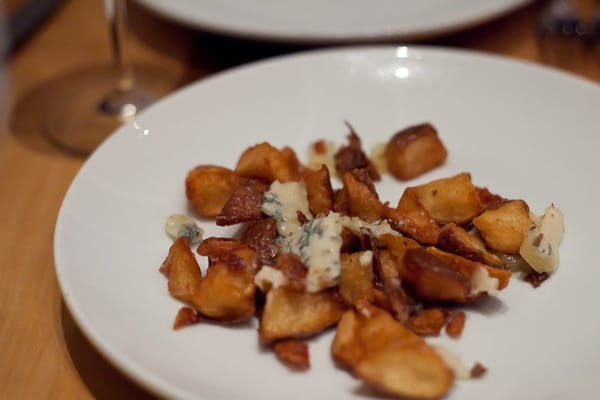curry: (3, 1, 589, 395)
sandwich: (32, 0, 180, 155)
